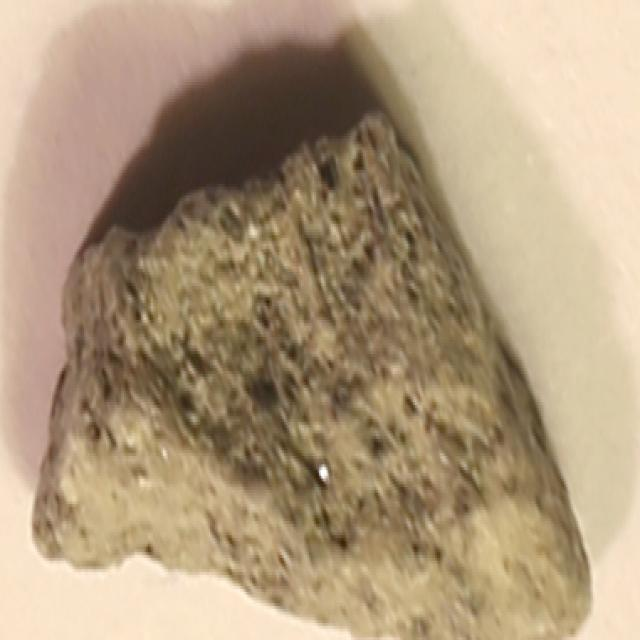stone: (24, 104, 640, 640)
